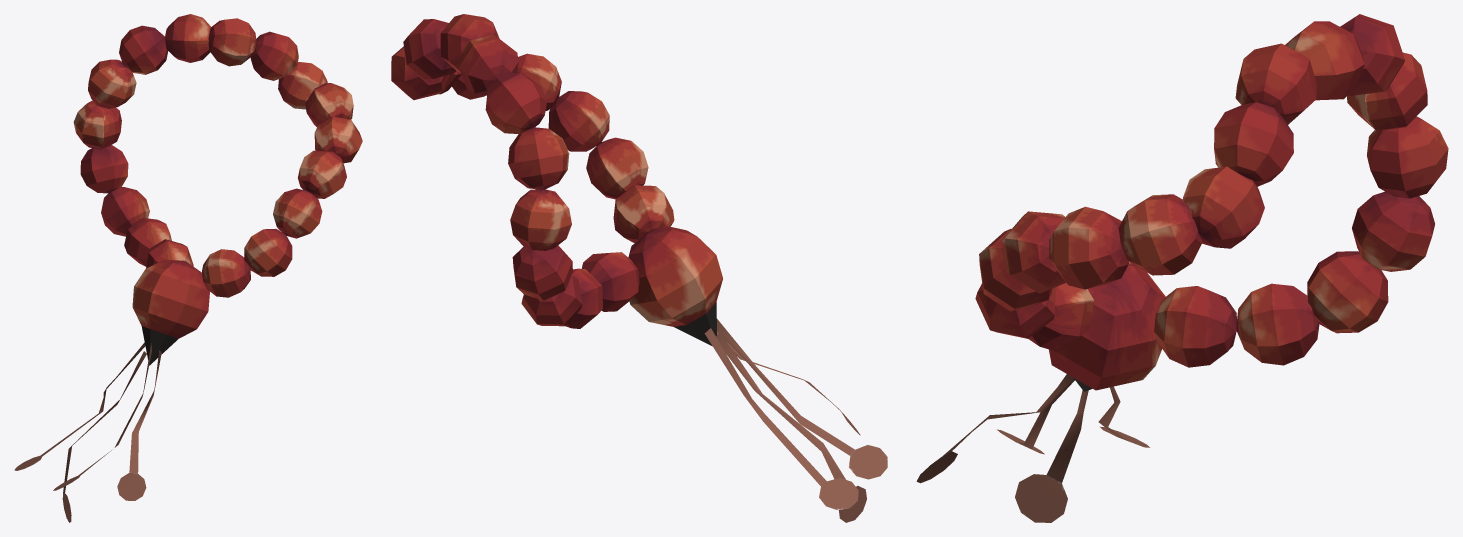
The model's file is Prayer_beads.fbx.
The picture shows the model from 3 angles, left to right: view 1: azimuth 30°, elevation 25°; view 2: azimuth 150°, elevation 25°; view 3: azimuth 270°, elevation 25°; orthographic projection. The views are drawn at different scales.
Parts seen in each view (by area): view 1: pDisc6; view 2: pDisc6; view 3: pDisc6.
Boxes of the visible parts, box(x1,y1,x2,y2) form: pDisc6: box(14, 14, 362, 522); pDisc6: box(391, 14, 887, 522); pDisc6: box(916, 14, 1448, 522).
Size of the model in its own units: 5.21 by 5.68 by 4.1.
1 material, 1 textured.
